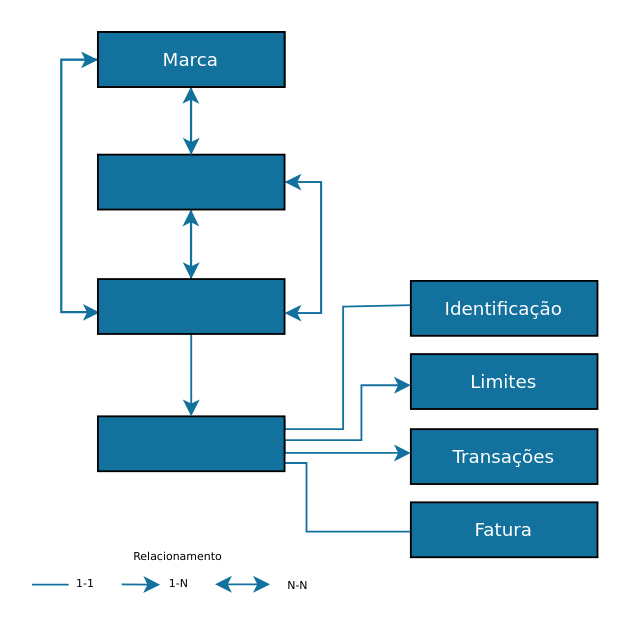
Image size: 630x633. Some labels were removed from this diagram. The centre of each missing label's shape, as x and y in pixels:
"Cartão de Crédito" belongs at point (190, 442).
"Cliente PN e PJ" belongs at point (190, 305).
"Instituição" belongs at point (190, 181).
